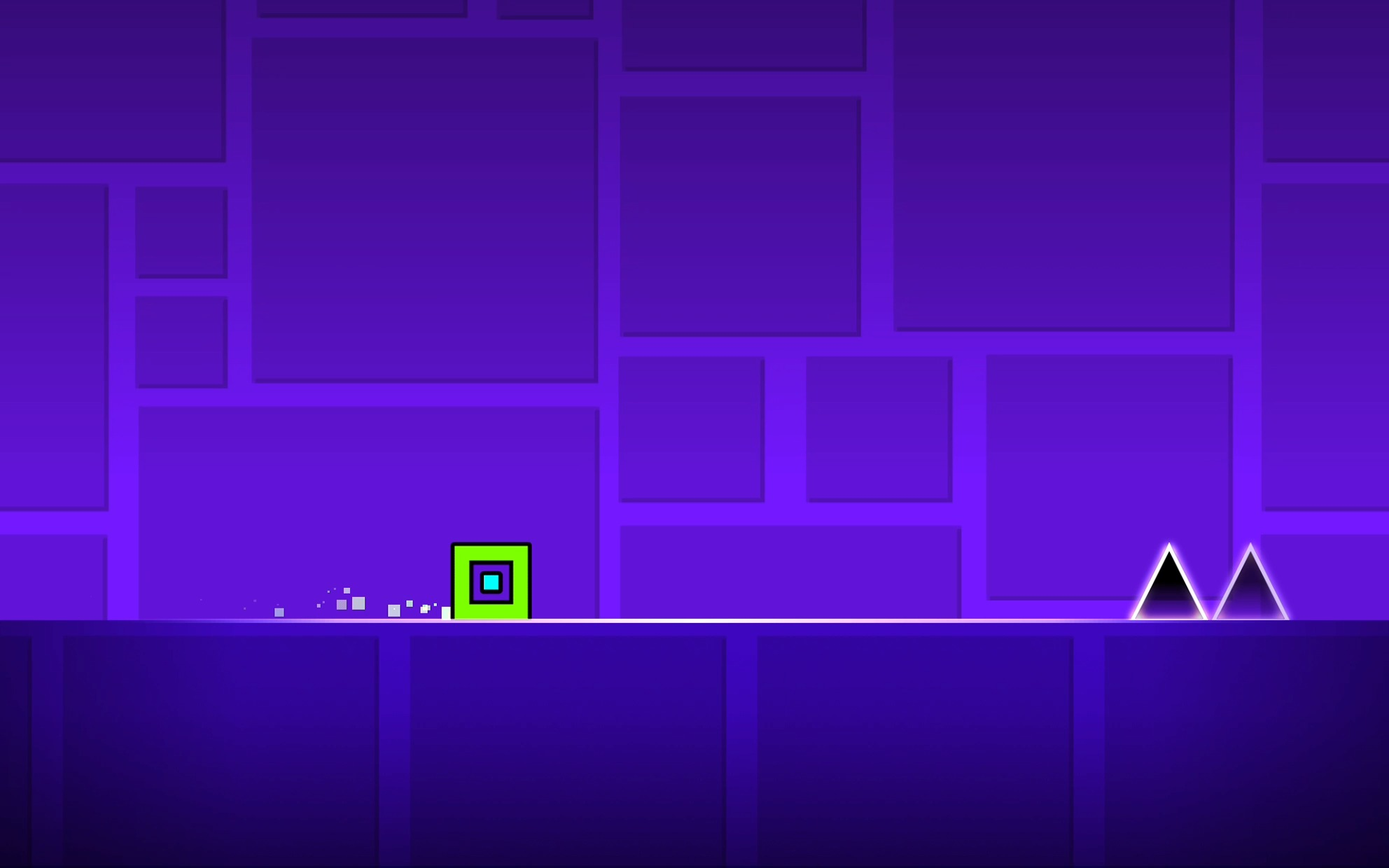Player: (446, 542, 532, 619)
Spike: (1211, 544, 1289, 619), (1131, 544, 1207, 619)
